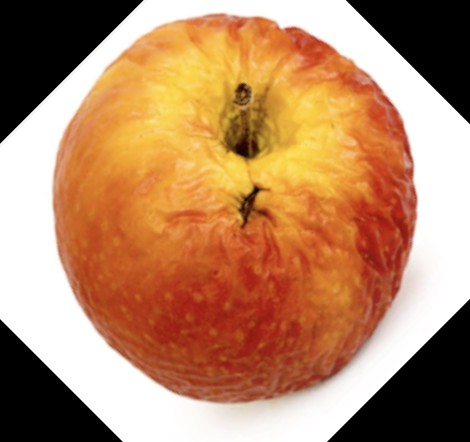rotten_apple: (53, 13, 418, 404)
